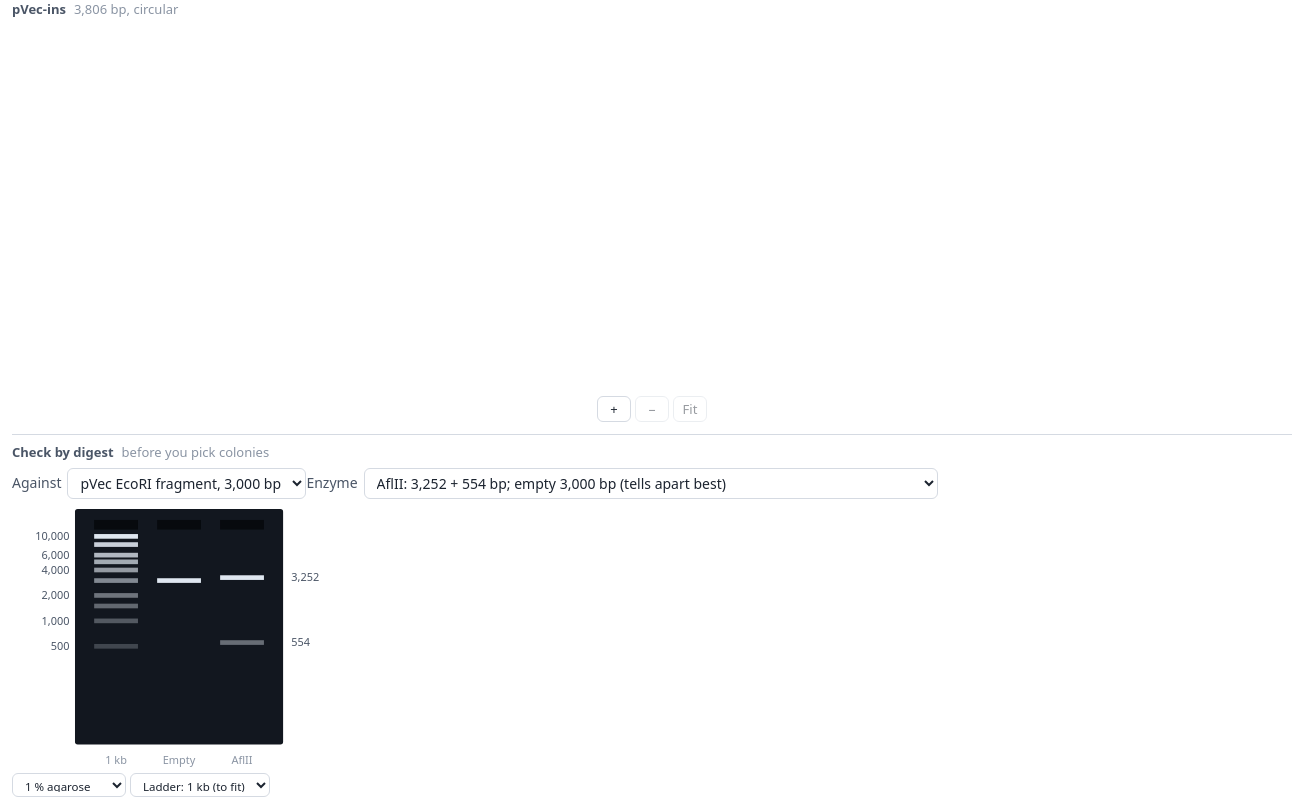
Test case: BenchProduct check digest against the empty vector (#78) › ranks by how well the product and the self-closed vector differ, and draws both
The width and height of the screenshot is (1292, 800).
Expected: the dropdown named "Vector to check against" shows "pVec EcoRI fragment, 3,000 bp", [67,468,306,499]
Expected: the element named "10,0006,0004,0002,0001,000500Empty3,252554AflII1 kb" shows "Empty", [163,752,195,767]
Select "MfeI: 3,798 + 8 bp; empty uncut (same)" in the dropdown named "Check digest enzyme" at (651, 484), box [364,468,938,499]
(page scrolled)
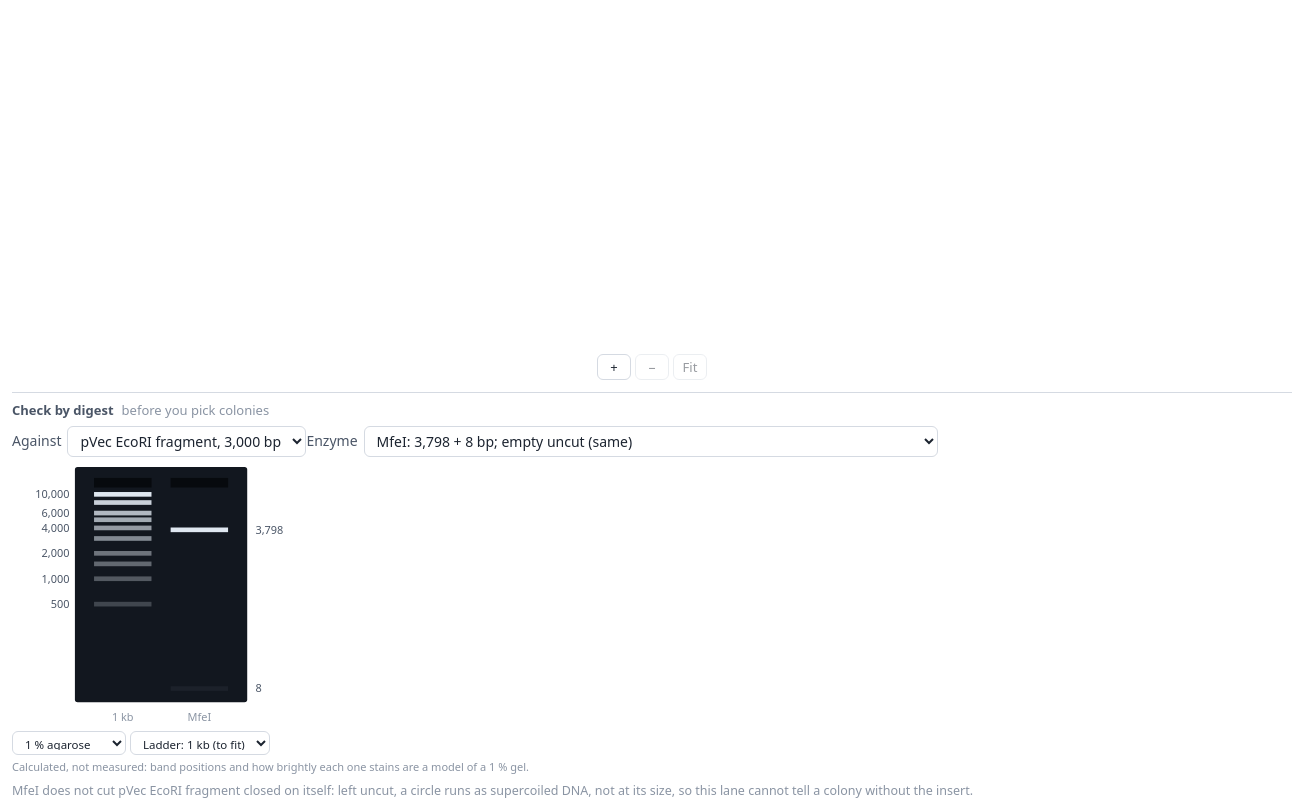
Expected: the text "runs as supercoiled DNA" is shown, [331,782,973,799]
Expected: the element named "10,0006,0004,0002,0001,0005003,7988MfeI1 kb" no longer shows "Empty", [12,467,529,774]
